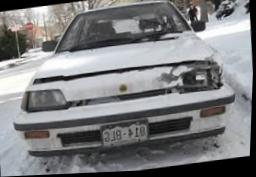Bonnet: (35, 32, 216, 79)
Light: (182, 67, 221, 95)
